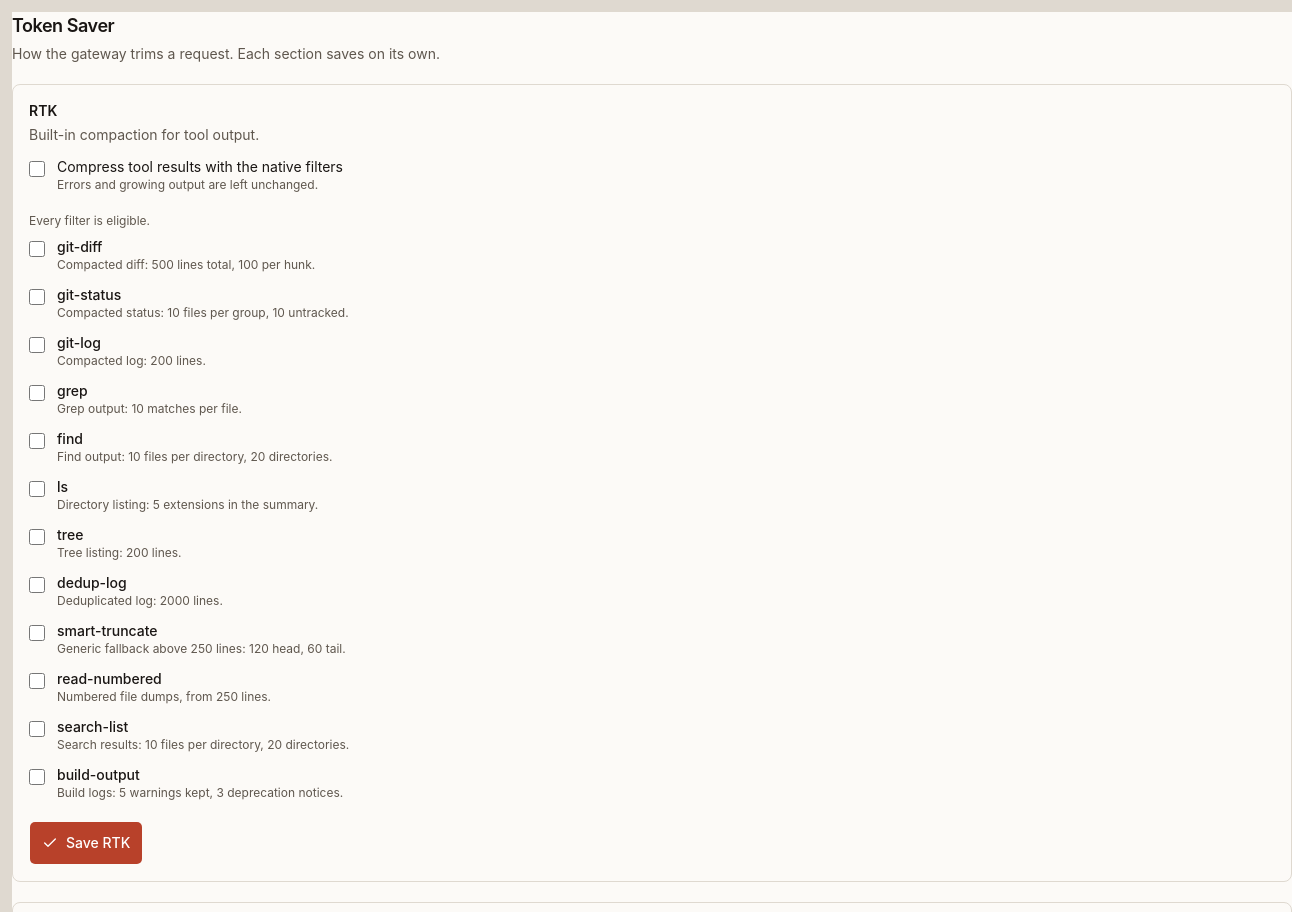
TokenSaverPage saves › marks a section as unsaved until it is saved, then says so
expect the heading "RTK" is shown: met, box [29,102,57,119]
Click the checkbox labelled "Compress tool results".
click(37, 169)  # box [29,161,45,177]
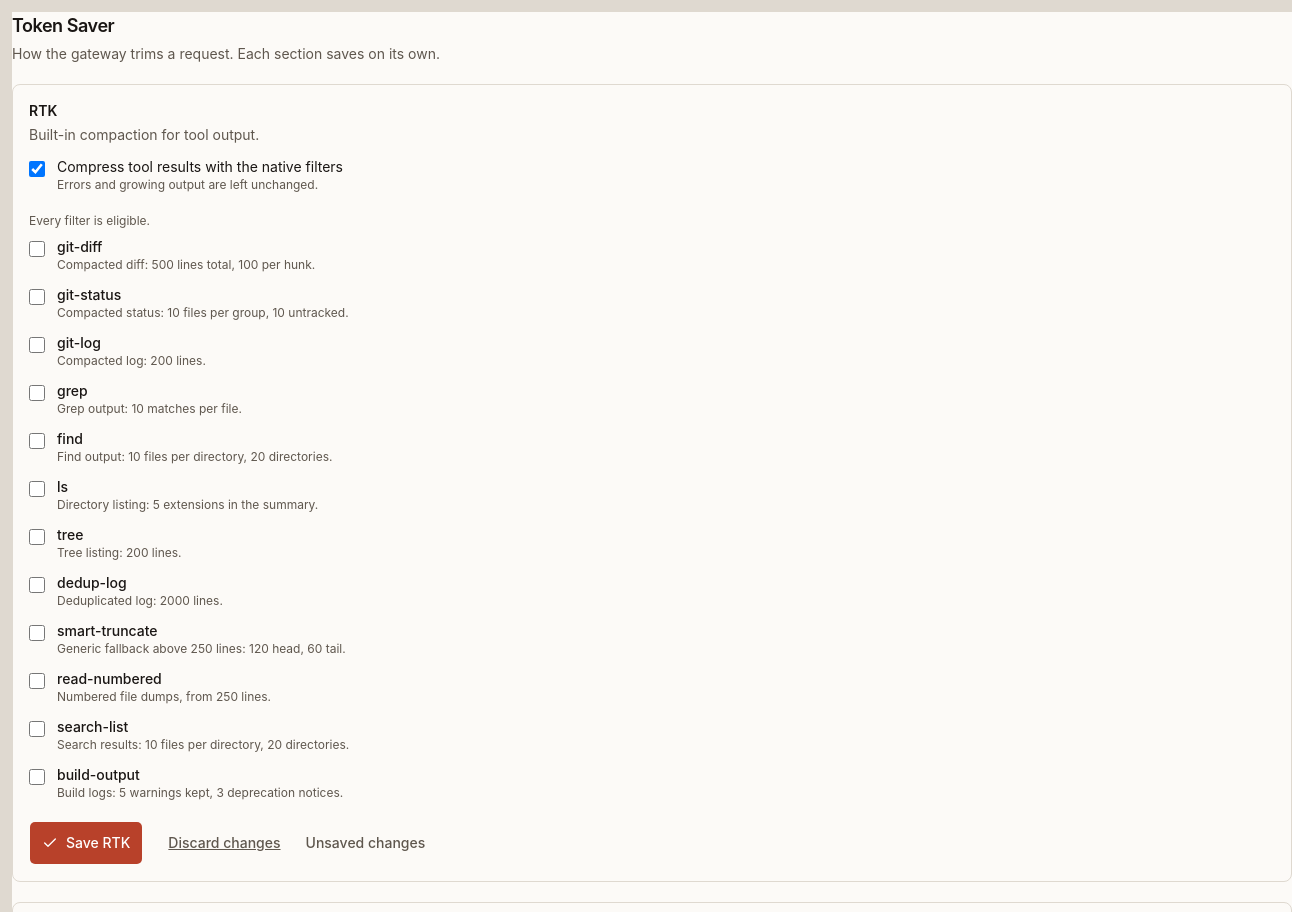
expect the text "Unsaved changes" is shown once: met, box [306,833,425,853]
Click the button "Save RTK".
click(86, 843)  # box [29,821,143,865]
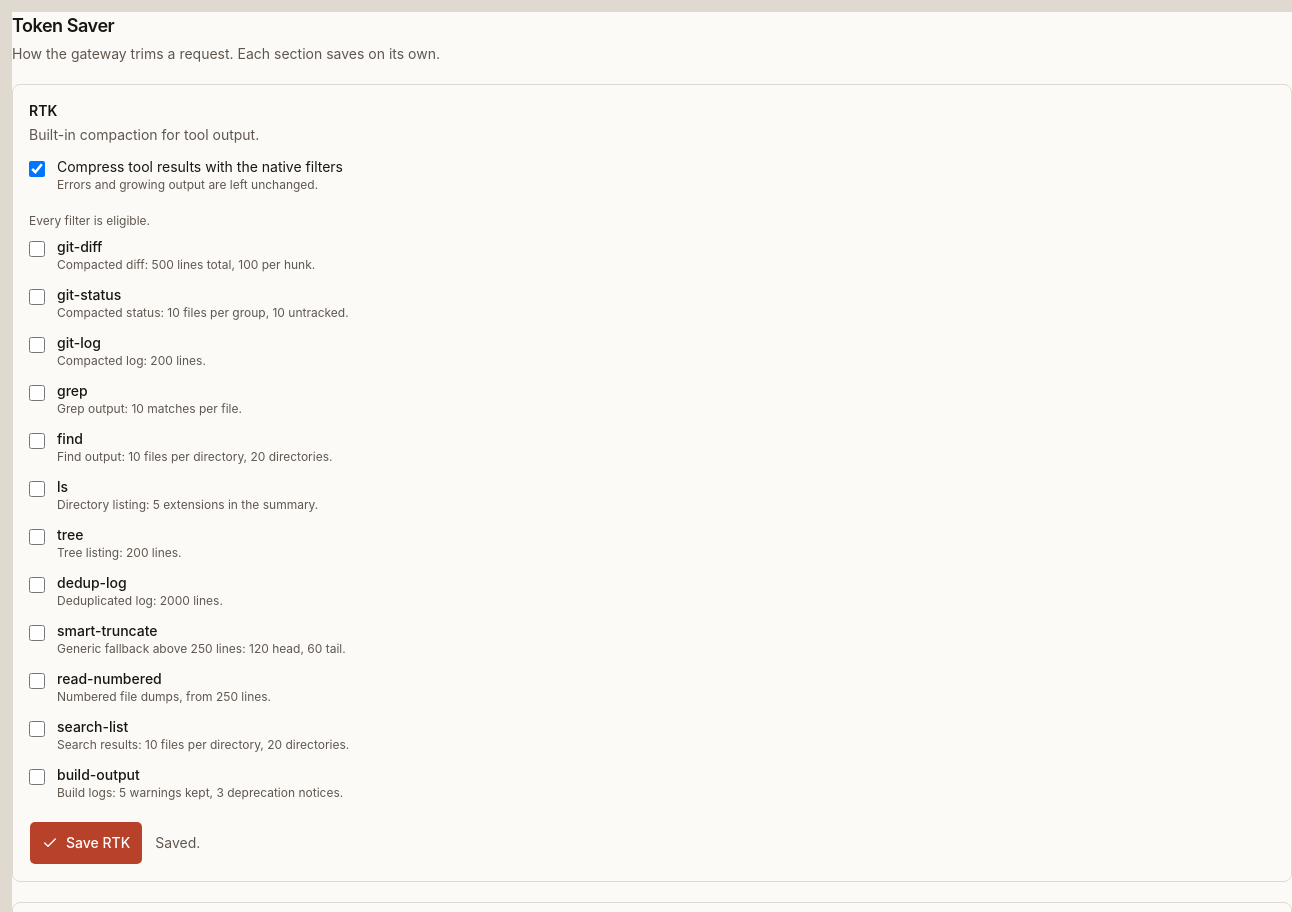
expect the text "Unsaved changes" is gone: met
expect the text "Saved." is shown: met, box [155,834,200,851]
